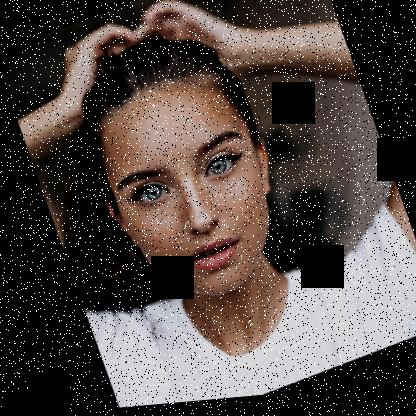Female: (68, 53, 305, 333)
